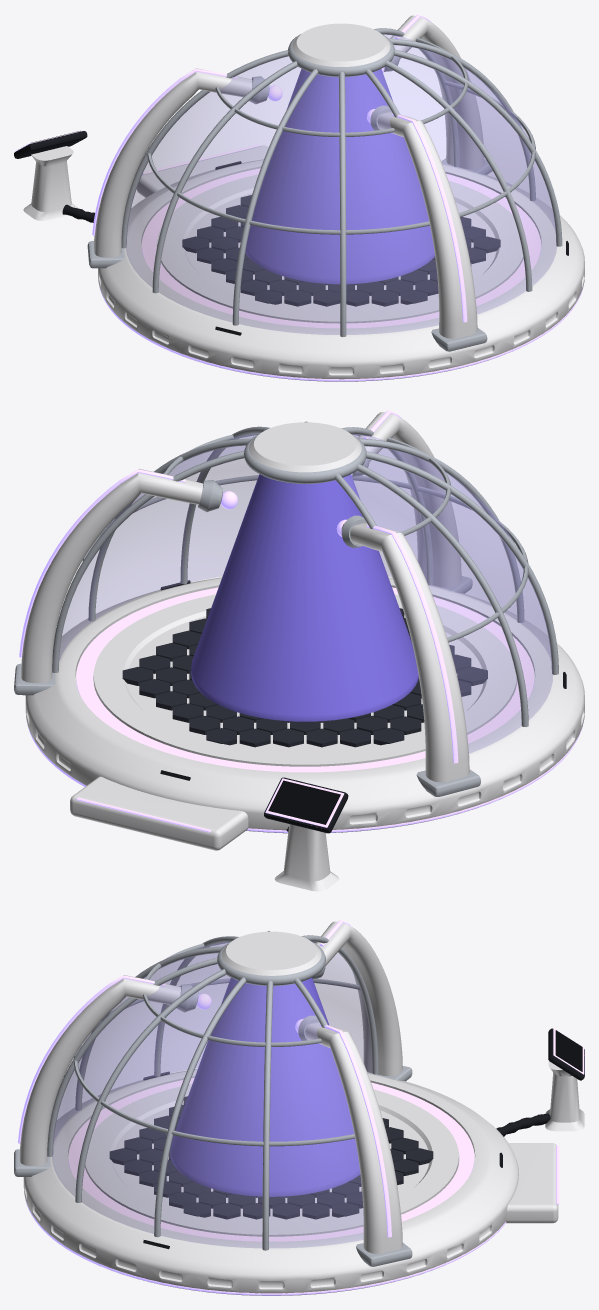
Rendered from Miniaturiseur.glb.
The picture shows the model from 3 angles, top to bottom: view 1: azimuth 30°, elevation 25°; view 2: azimuth 150°, elevation 25°; view 3: azimuth 270°, elevation 25°; orthographic projection. The views are drawn at different scales.
Visible parts, largest first — view 1: Dome__Glass__B9B0FF, Shell__SmoothPlastic__F2F2F5, Beam__ForceField__8B7CFF, Frame__Metal__B8BEC8, Glow__Neon__8B7CFF, Floor__Metal__2A2D38, Dark__SmoothPlastic__16181E; view 2: Shell__SmoothPlastic__F2F2F5, Beam__ForceField__8B7CFF, Dome__Glass__B9B0FF, Frame__Metal__B8BEC8, Floor__Metal__2A2D38, Glow__Neon__8B7CFF, Screen__SmoothPlastic__0B0C10, Dark__SmoothPlastic__16181E; view 3: Shell__SmoothPlastic__F2F2F5, Dome__Glass__B9B0FF, Beam__ForceField__8B7CFF, Frame__Metal__B8BEC8, Glow__Neon__8B7CFF, Floor__Metal__2A2D38, Dark__SmoothPlastic__16181E, Screen__SmoothPlastic__0B0C10.
Boxes of the visible parts, x1=… form: Dome__Glass__B9B0FF: x1=126, y1=34, x2=556, y2=334; Shell__SmoothPlastic__F2F2F5: x1=23, y1=15, x2=584, y2=381; Beam__ForceField__8B7CFF: x1=245, y1=68, x2=434, y2=284; Frame__Metal__B8BEC8: x1=87, y1=28, x2=562, y2=351; Glow__Neon__8B7CFF: x1=15, y1=14, x2=583, y2=381; Floor__Metal__2A2D38: x1=182, y1=195, x2=500, y2=306; Dark__SmoothPlastic__16181E: x1=14, y1=131, x2=568, y2=335; Shell__SmoothPlastic__F2F2F5: x1=21, y1=412, x2=584, y2=891; Beam__ForceField__8B7CFF: x1=191, y1=474, x2=418, y2=721; Dome__Glass__B9B0FF: x1=59, y1=433, x2=552, y2=753; Frame__Metal__B8BEC8: x1=14, y1=421, x2=558, y2=796; Floor__Metal__2A2D38: x1=122, y1=608, x2=487, y2=747; Glow__Neon__8B7CFF: x1=19, y1=410, x2=583, y2=832; Screen__SmoothPlastic__0B0C10: x1=268, y1=780, x2=340, y2=824; Dark__SmoothPlastic__16181E: x1=160, y1=580, x2=566, y2=833; Shell__SmoothPlastic__F2F2F5: x1=20, y1=921, x2=584, y2=1295; Dome__Glass__B9B0FF: x1=52, y1=942, x2=372, y2=1248; Beam__ForceField__8B7CFF: x1=170, y1=977, x2=360, y2=1196; Frame__Metal__B8BEC8: x1=14, y1=931, x2=412, y2=1266; Glow__Neon__8B7CFF: x1=18, y1=920, x2=584, y2=1295; Floor__Metal__2A2D38: x1=109, y1=1096, x2=433, y2=1219; Dark__SmoothPlastic__16181E: x1=143, y1=1028, x2=584, y2=1249; Screen__SmoothPlastic__0B0C10: x1=555, y1=1030, x2=582, y2=1071.
Bounding box in the file's own units: 30.4 × 16.36 × 35.03.
